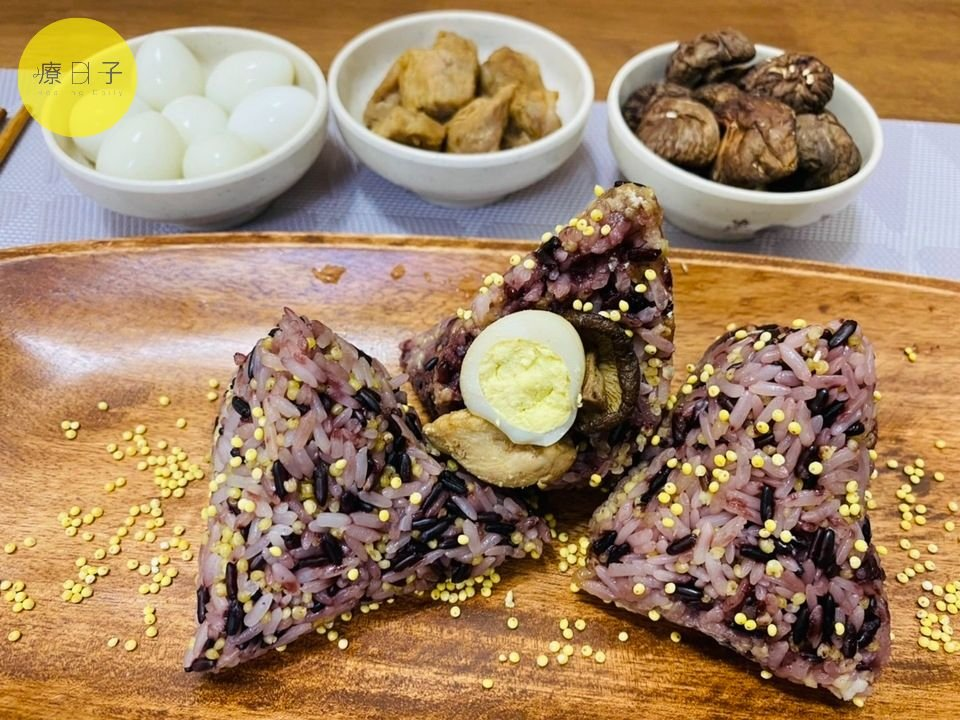zongzi: (185, 182, 890, 700)
